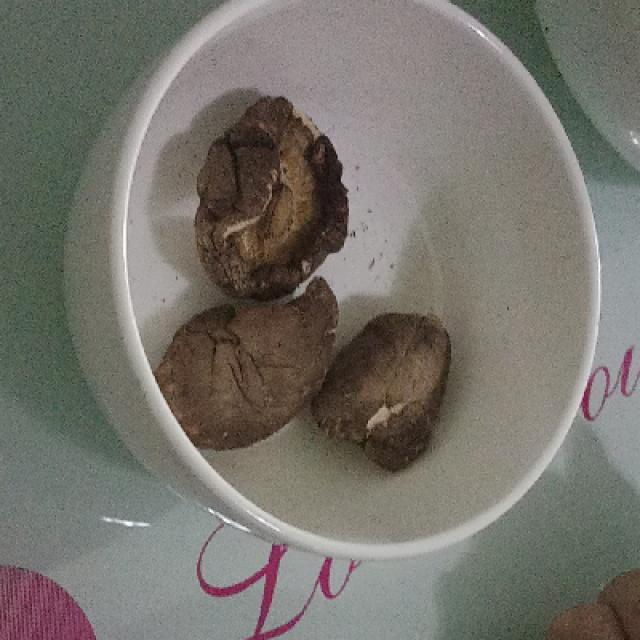Lentinus edodes: (151, 276, 345, 454), (196, 95, 354, 299), (324, 309, 454, 467)
